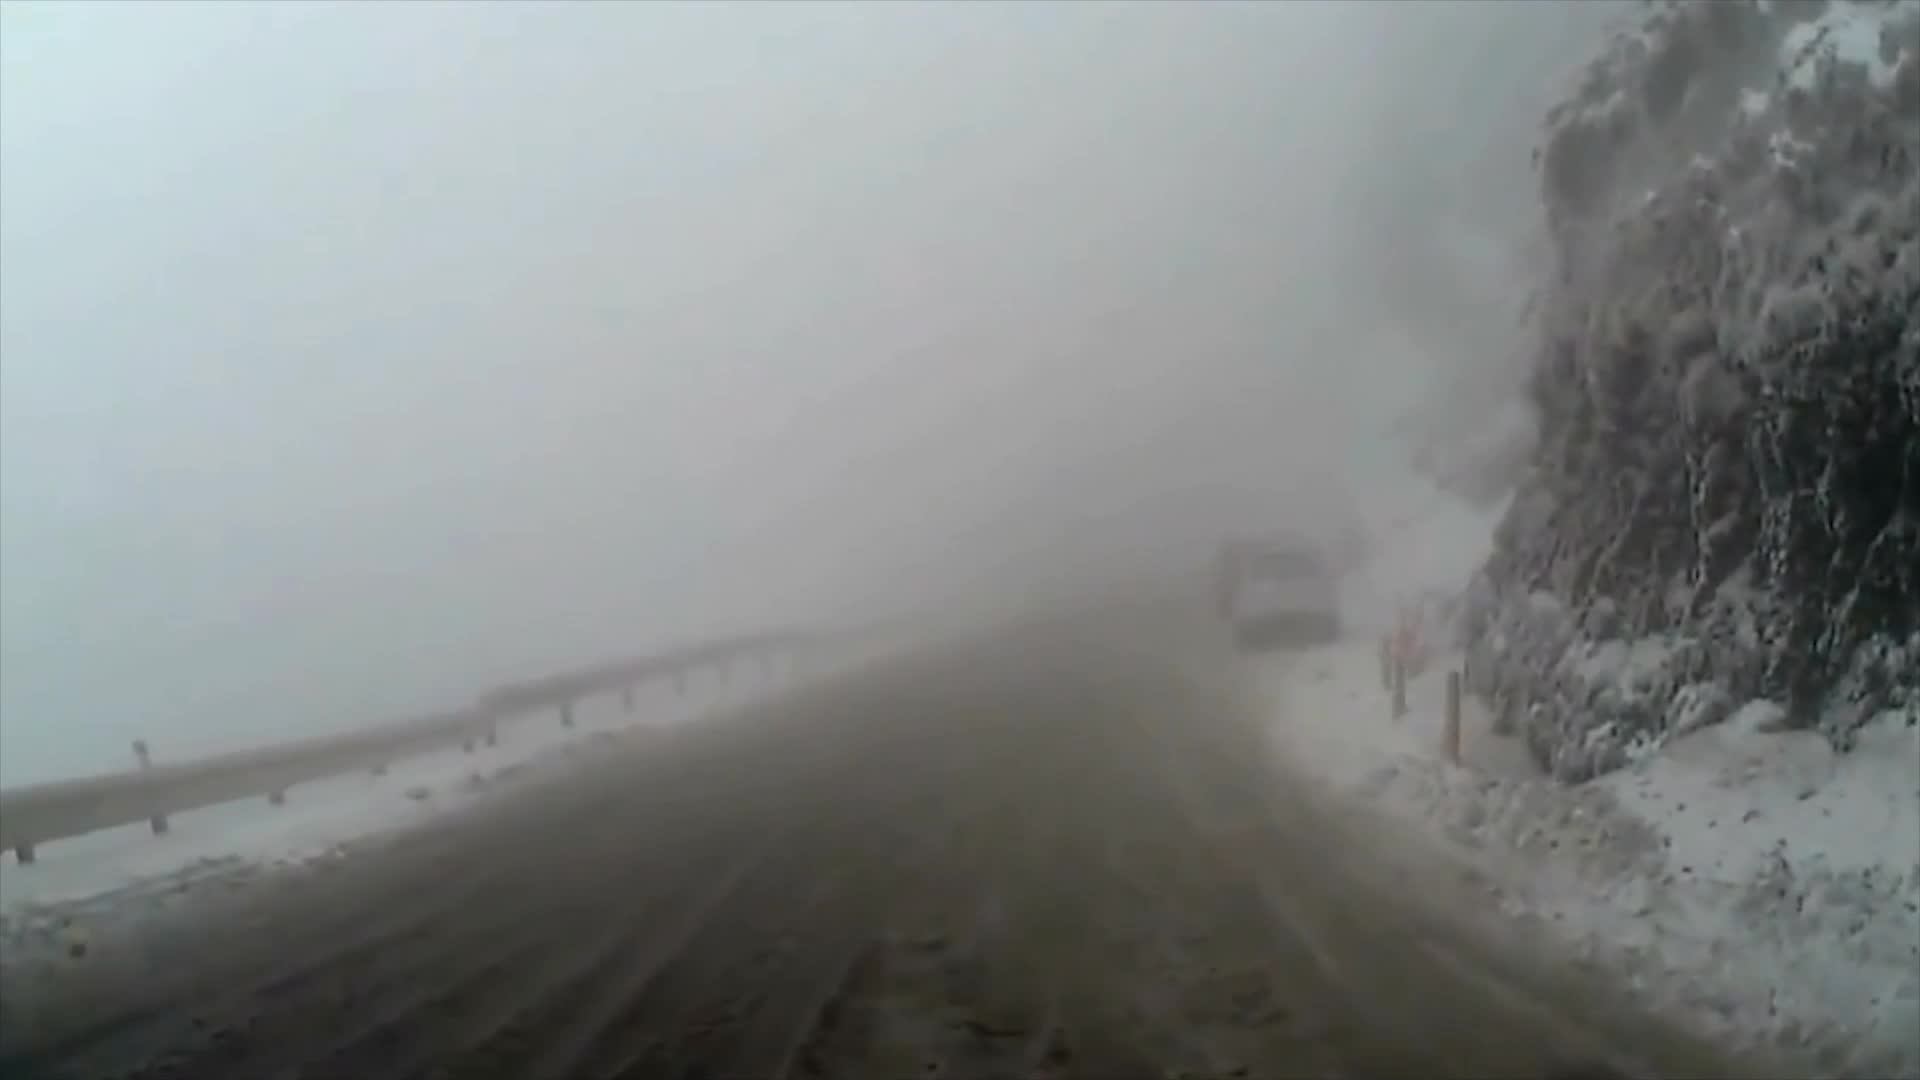vehicle: (1232, 551, 1345, 661)
